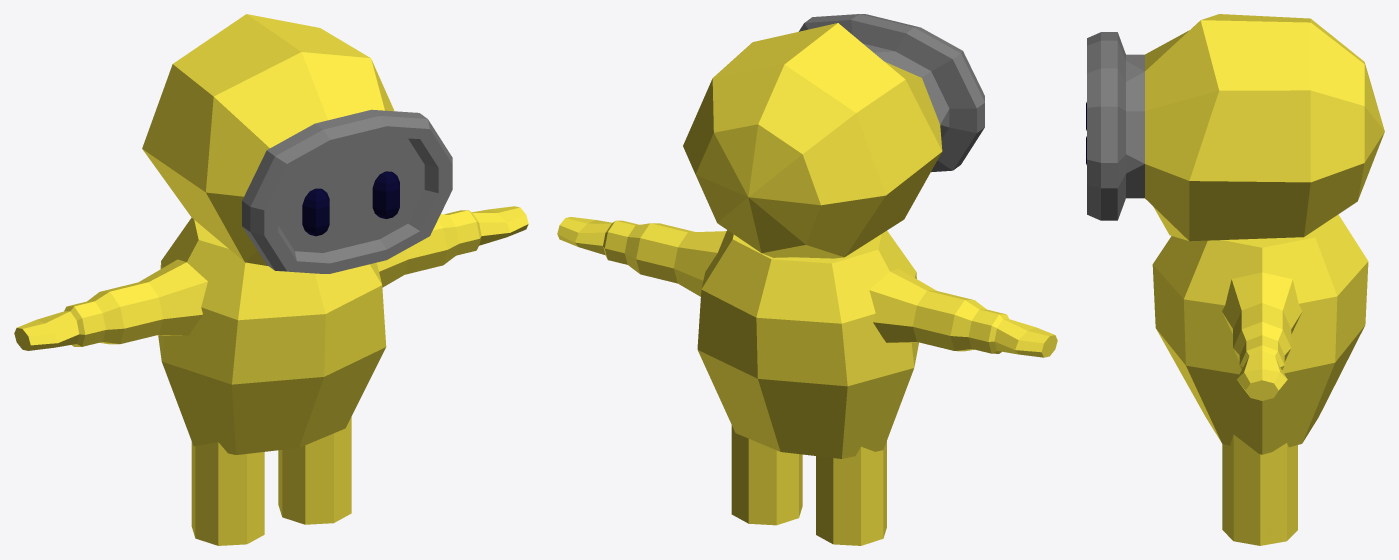
The model's file is GEO_diver_placeholder_v01.fbx.
3 renders of one model, left to right at view 1: azimuth 30°, elevation 25°; view 2: azimuth 150°, elevation 25°; view 3: azimuth 270°, elevation 25°, orthographic. The views are drawn at different scales.
Visible parts, largest first — view 1: diver_geo_06; view 2: diver_geo_06; view 3: diver_geo_06.
Part boxes in pixels (box(x1,y1,x2,y2)): diver_geo_06: box(14, 14, 528, 545); diver_geo_06: box(557, 14, 1057, 545); diver_geo_06: box(1086, 14, 1384, 545).
Bounding box in the file's own units: 178 × 167 × 92.6.
